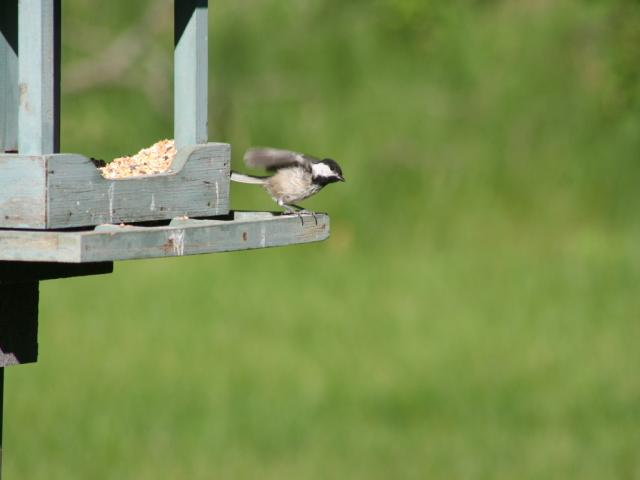Bird: (246, 142, 340, 228)
